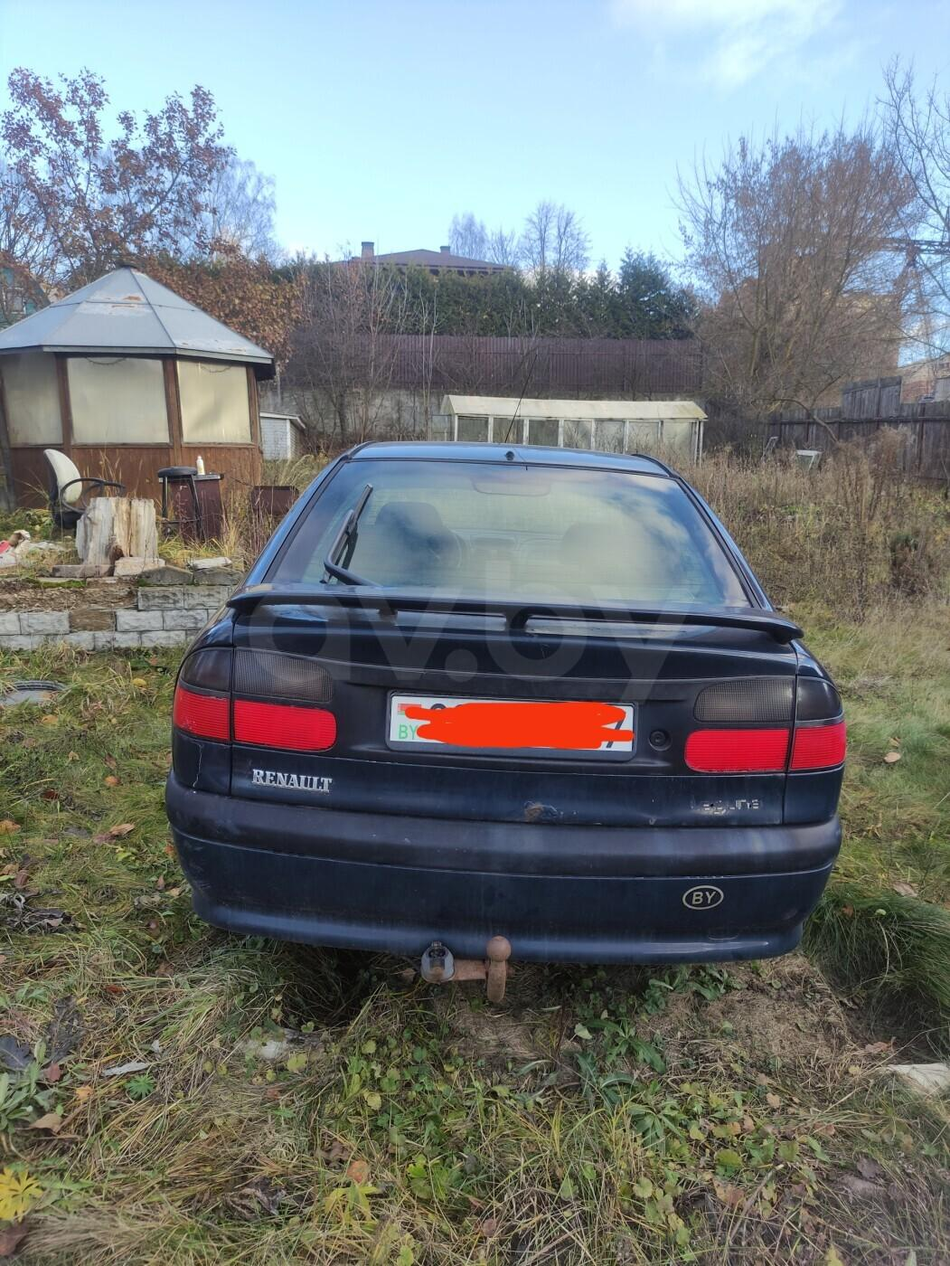Lahuna_1993-1999: (170, 439, 842, 989)
